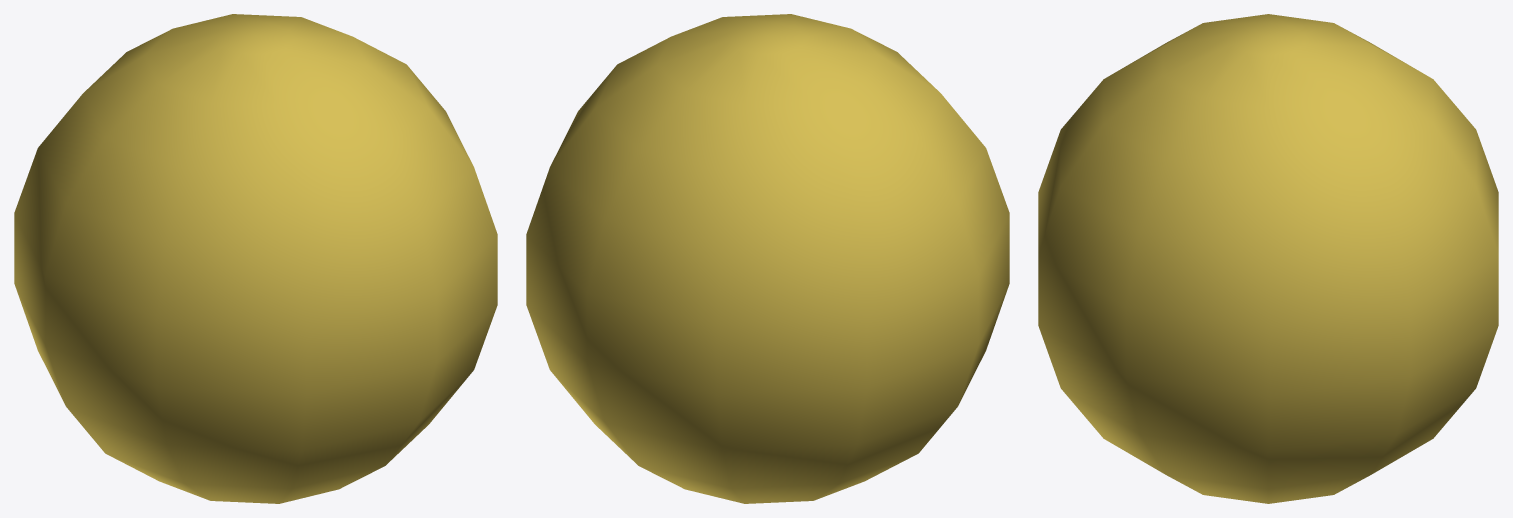
The model's file is BallModel2.fbx.
The picture shows the model from 3 angles, left to right: view 1: azimuth 30°, elevation 25°; view 2: azimuth 150°, elevation 25°; view 3: azimuth 270°, elevation 25°; orthographic projection.
Parts seen in each view (by area): view 1: pSphere1; view 2: pSphere1; view 3: pSphere1.
Part boxes in pixels (left/top/right/bottom): pSphere1: left=14, top=14, right=497, bottom=503; pSphere1: left=526, top=14, right=1009, bottom=503; pSphere1: left=1038, top=14, right=1498, bottom=503.
Bounding box in the file's own units: 0.0454 × 0.046 × 0.0432.
